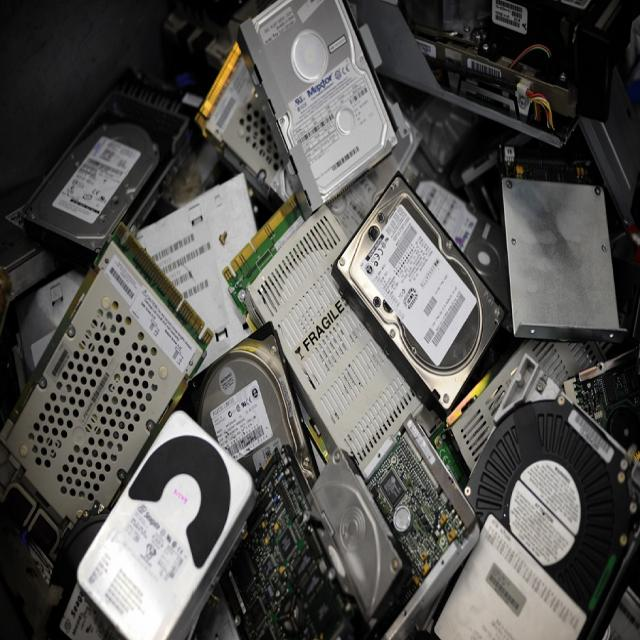heap: (71, 57, 640, 640)
